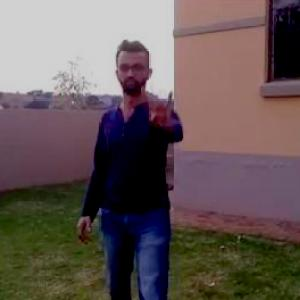takeoff-hand: (132, 78, 177, 131)
